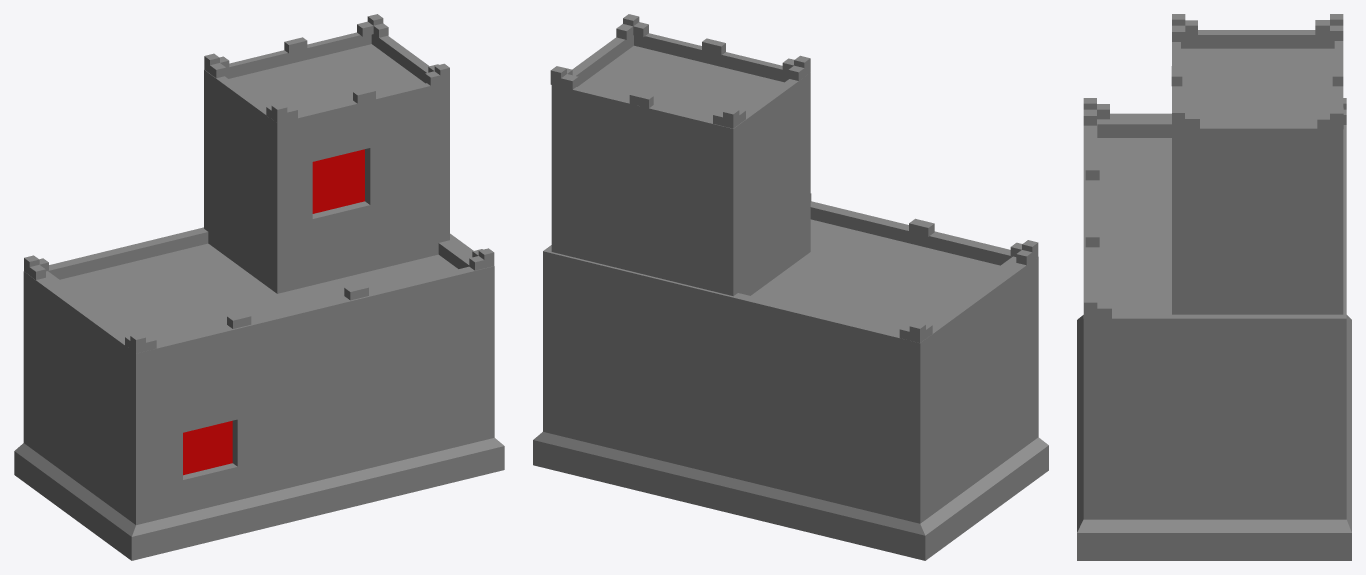
The model's file is Mini_Batiment2.fbx.
3 views of the same model, side by side, from view 1: azimuth 30°, elevation 25°; view 2: azimuth 150°, elevation 25°; view 3: azimuth 270°, elevation 25° (orthographic). The views are drawn at different scales.
Visible parts, largest first — view 1: pCube203; view 2: pCube203; view 3: pCube203.
Boxes of the visible parts, x1=… form: pCube203: x1=14, y1=14, x2=504, y2=560; pCube203: x1=533, y1=14, x2=1048, y2=560; pCube203: x1=1077, y1=14, x2=1351, y2=560.
Size of the model in its own units: 28.02 by 27.02 by 15.28.
